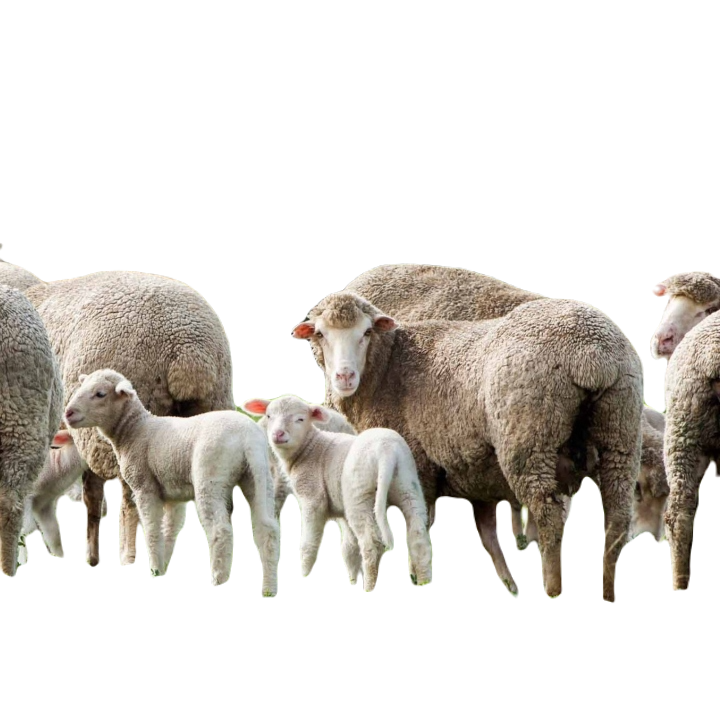Sheep: (289, 292, 648, 605), (64, 367, 283, 596), (244, 390, 429, 593)
